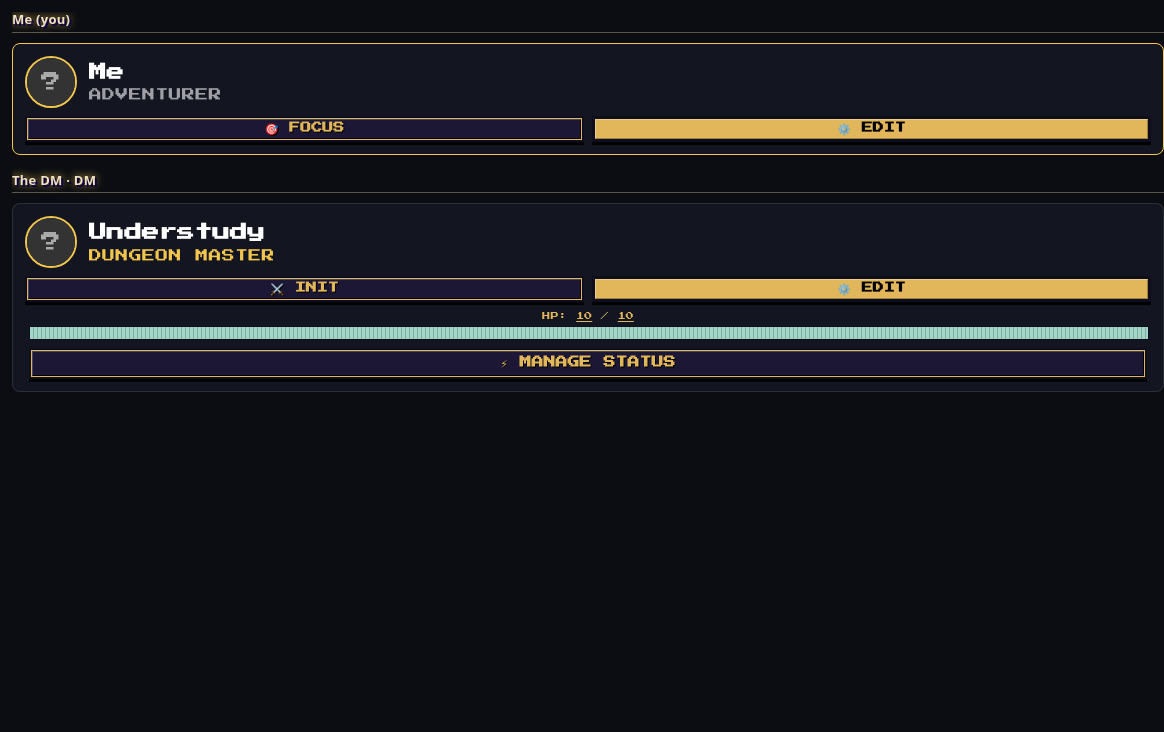
Test: movement budget reset — the plate's own gate, and the character binding › a DM-OWNED character with NO initiative and nothing spent: no reset
Click the 2nd button "⚙️ EDIT". click: click(872, 289)
box: [592,276,1151,302]
(page scrolled)
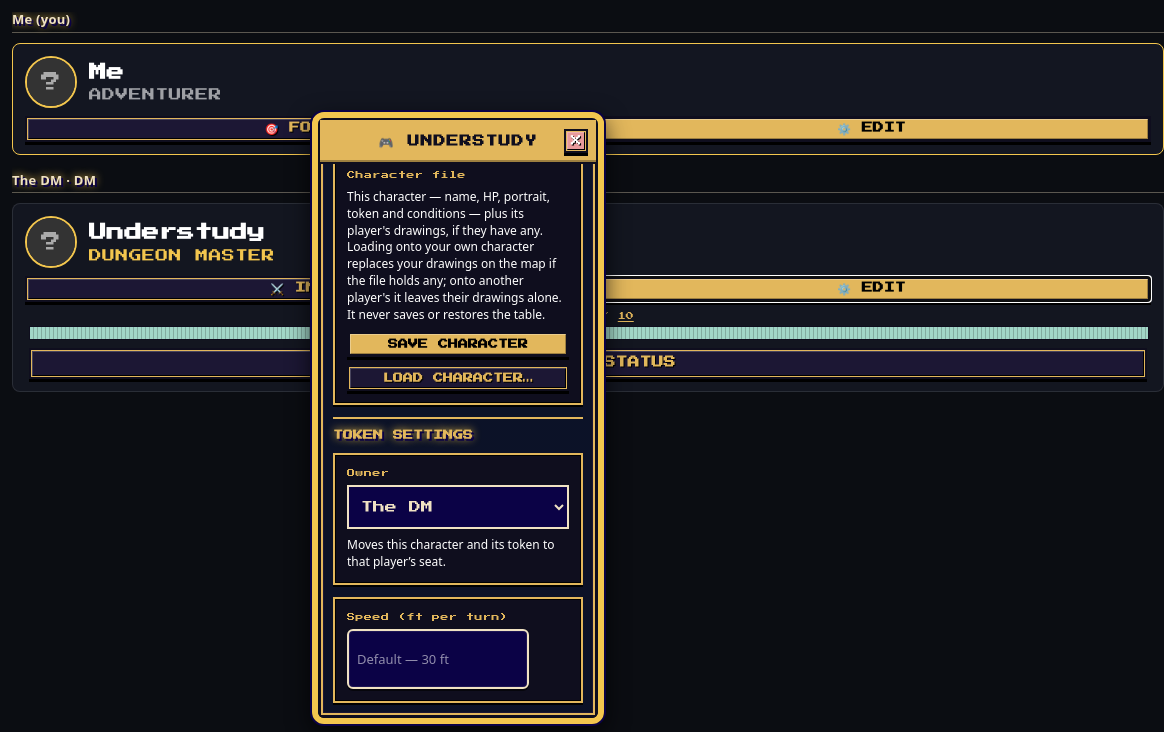
Expected: the number field named "Movement speed in feet per turn" is shown, [347,629,528,689]
